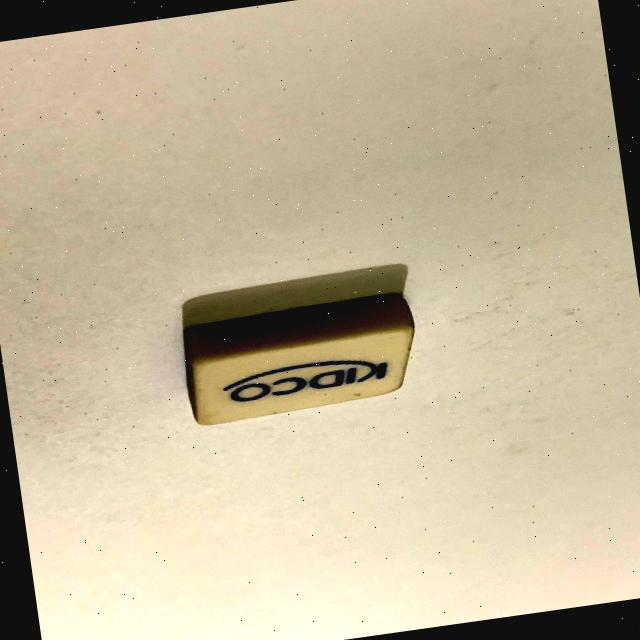Eraser: (138, 256, 460, 460)
